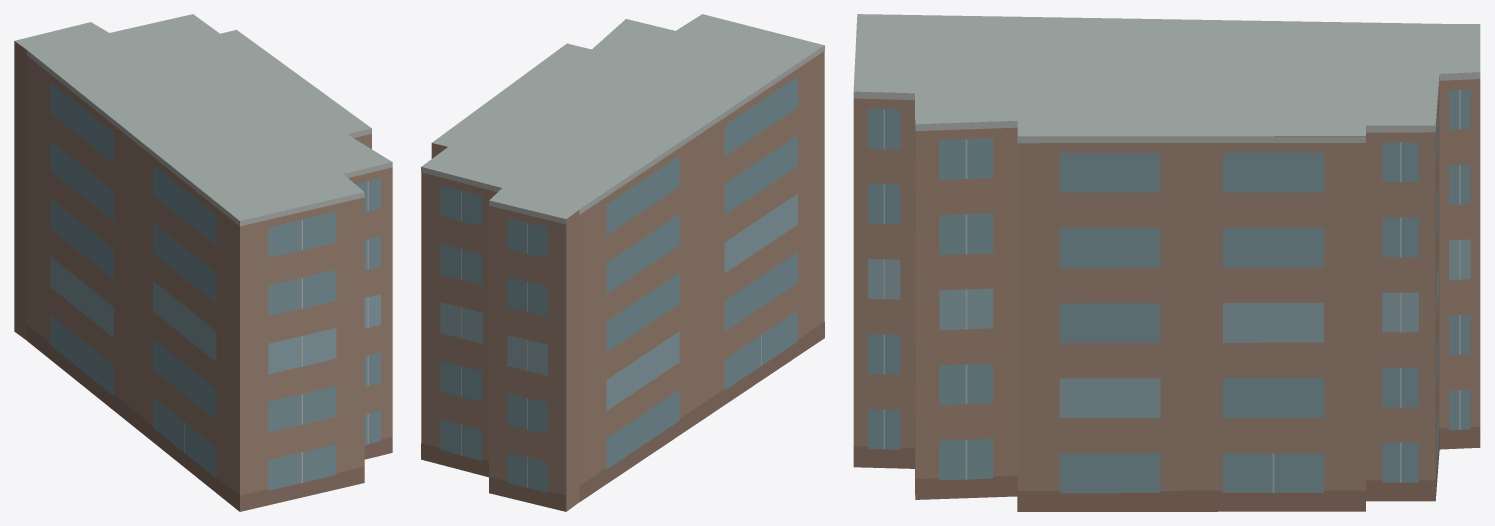
File: survey-upis-32735992.glb
The picture shows the model from 3 angles, left to right: view 1: azimuth 30°, elevation 25°; view 2: azimuth 150°, elevation 25°; view 3: azimuth 270°, elevation 25°; orthographic projection. The views are drawn at different scales.
Visible parts, largest first — view 1: survey-upis-32735992.tmp; view 2: survey-upis-32735992.tmp; view 3: survey-upis-32735992.tmp.
Part boxes in pixels (bbox=[...]): survey-upis-32735992.tmp: bbox=[14, 14, 392, 511]; survey-upis-32735992.tmp: bbox=[421, 14, 824, 511]; survey-upis-32735992.tmp: bbox=[853, 14, 1480, 511].
Size of the model in its own units: 9.37 by 13.4 by 20.28.
